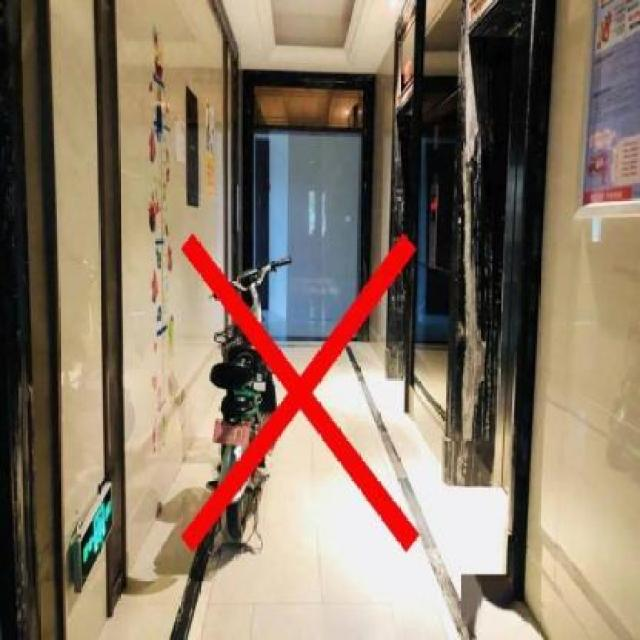exit_sign: (66, 479, 116, 606)
